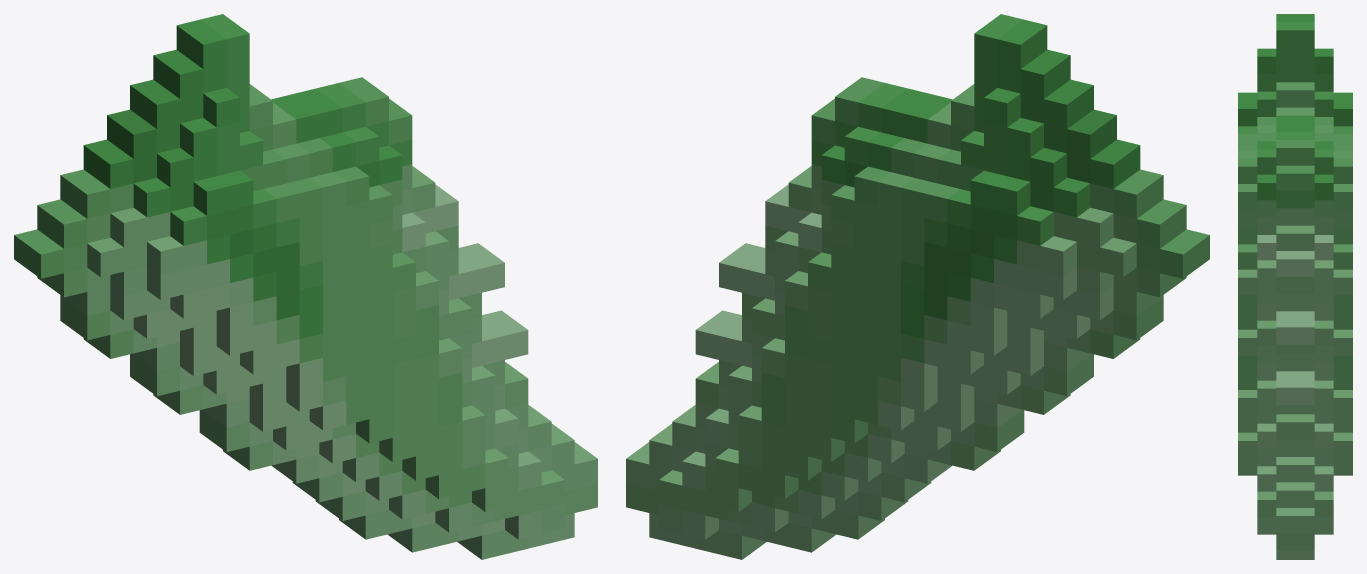
The model's file is shoe-green.glb.
The picture shows the model from 3 angles, left to right: view 1: azimuth 30°, elevation 25°; view 2: azimuth 150°, elevation 25°; view 3: azimuth 270°, elevation 25°; orthographic projection. The views are drawn at different scales.
Parts seen in each view (by area): view 1: prop; view 2: prop; view 3: prop.
Boxes of the visible parts, bbox=[...] form: prop: bbox=[14, 14, 597, 559]; prop: bbox=[626, 14, 1209, 559]; prop: bbox=[1238, 14, 1352, 559].
Bounding box in the file's own units: 16 × 16 × 4.
